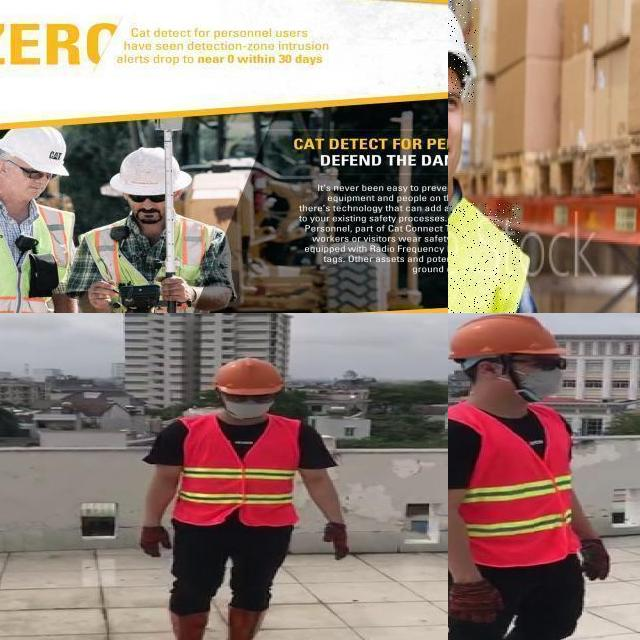BOOTS: (225, 604, 271, 640), (159, 610, 209, 640)
GLASS: (0, 157, 56, 183), (498, 358, 570, 372), (224, 393, 275, 405), (125, 192, 169, 204)
GLOVE: (448, 581, 506, 630), (578, 538, 614, 583), (139, 526, 173, 558), (324, 522, 351, 562)
HELMET: (448, 313, 574, 360), (0, 129, 71, 174), (209, 357, 288, 397), (448, 0, 476, 102)
VEST: (448, 409, 579, 563), (173, 415, 296, 526), (84, 220, 223, 313), (0, 196, 38, 313)
